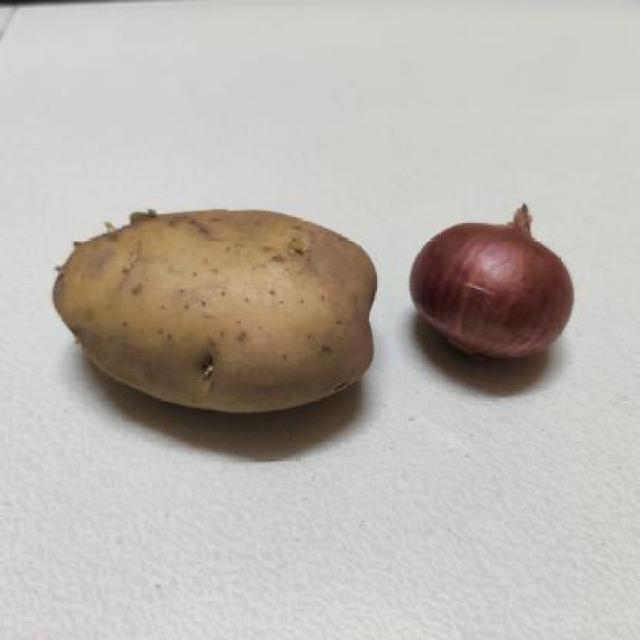Onion: (404, 183, 572, 380)
Potato: (42, 203, 390, 446)
